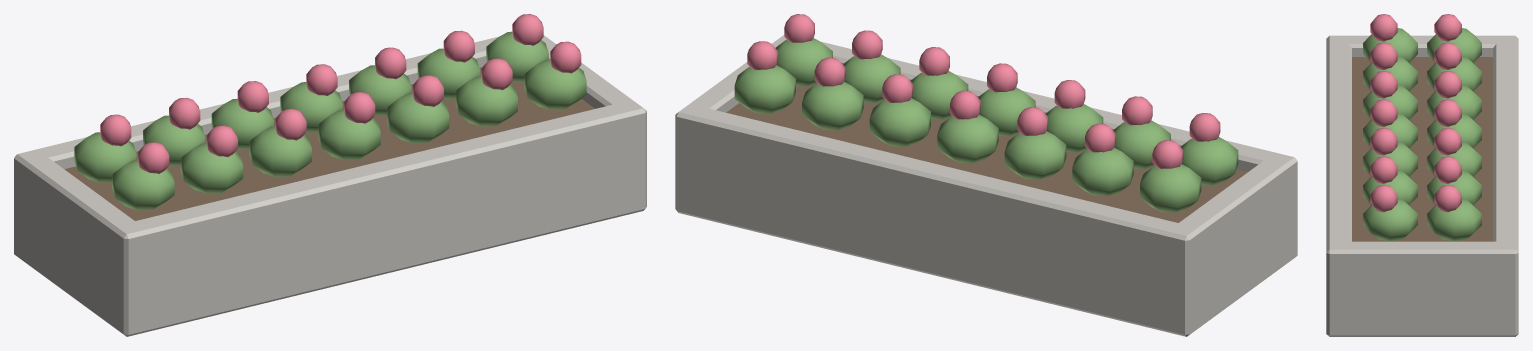
Rendered from flower_bed.glb.
3 renders of one model, left to right at view 1: azimuth 30°, elevation 25°; view 2: azimuth 150°, elevation 25°; view 3: azimuth 270°, elevation 25°, orthographic. The views are drawn at different scales.
Parts seen in each view (by area): view 1: stone, leaf, tint_flowers, soil; view 2: stone, leaf, tint_flowers, soil; view 3: stone, leaf, tint_flowers, soil.
Boxes of the visible parts, x1=… form: stone: x1=14, y1=35, x2=646, y2=336; leaf: x1=74, y1=31, x2=586, y2=210; tint_flowers: x1=100, y1=14, x2=581, y2=173; soil: x1=64, y1=67, x2=594, y2=220; stone: x1=675, y1=35, x2=1297, y2=336; leaf: x1=734, y1=38, x2=1238, y2=212; tint_flowers: x1=747, y1=14, x2=1220, y2=168; soil: x1=726, y1=84, x2=1247, y2=222; stone: x1=1326, y1=35, x2=1518, y2=336; leaf: x1=1363, y1=28, x2=1481, y2=241; tint_flowers: x1=1370, y1=14, x2=1461, y2=212; soil: x1=1352, y1=57, x2=1492, y2=241.
Bounding box in the file's own units: 1.6 × 0.455 × 0.6.
